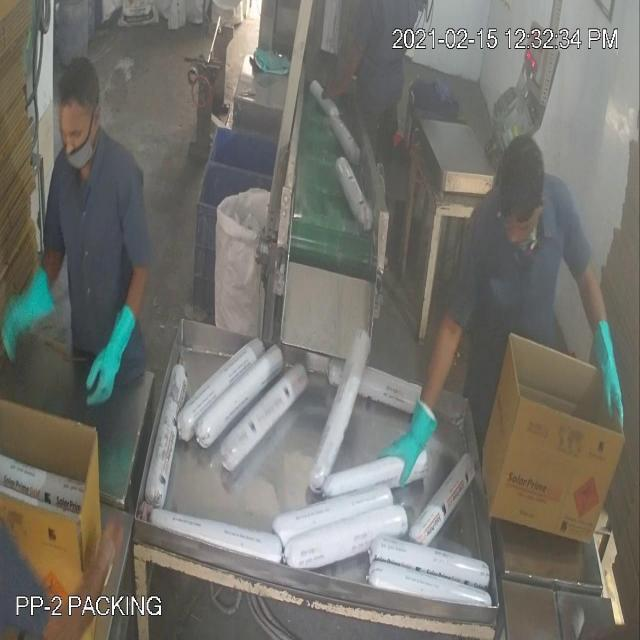No_Gloves: (32, 72, 608, 446)
